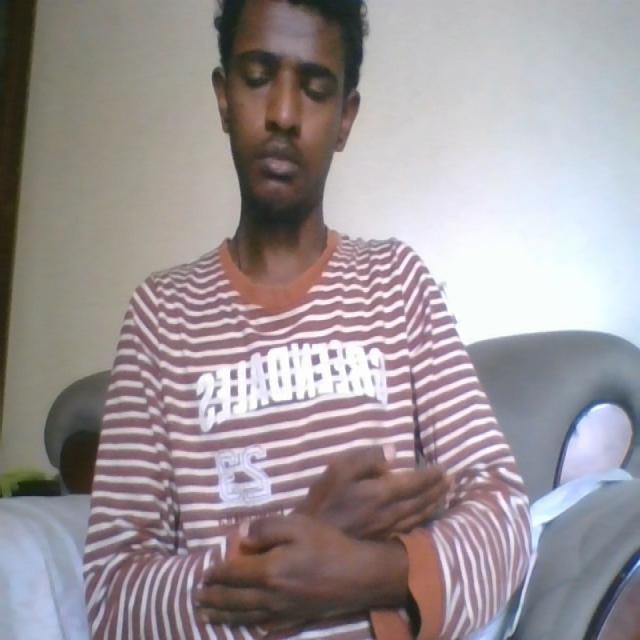lij: (191, 436, 453, 631)
